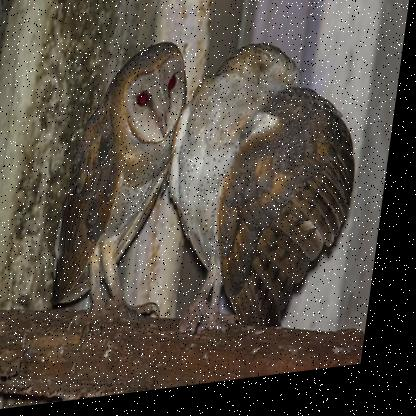Burung: (154, 38, 377, 359), (43, 42, 198, 336)
